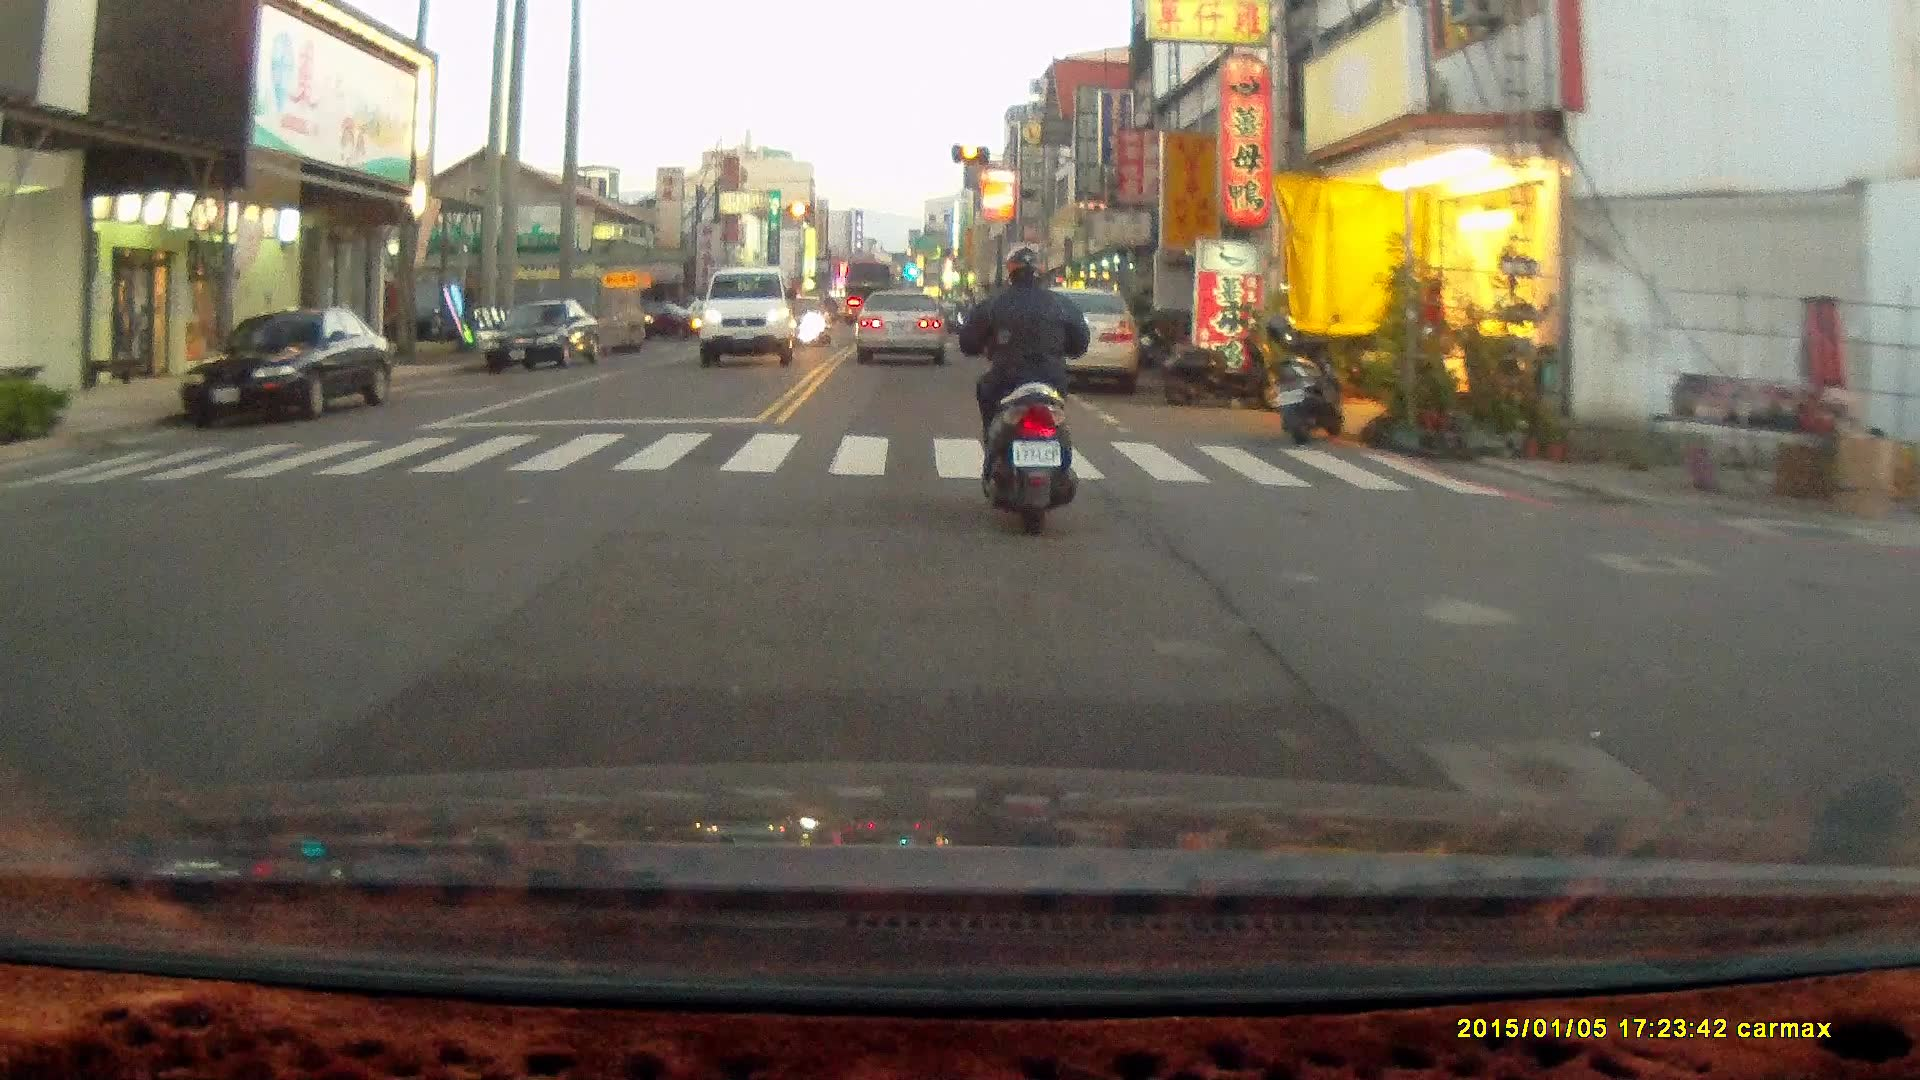pedestrian: (1419, 277, 1452, 393)
rider: (957, 250, 1090, 542)
vehicle: (174, 315, 390, 428), (1016, 290, 1146, 399), (698, 268, 800, 371), (485, 300, 603, 379), (860, 294, 958, 367)
